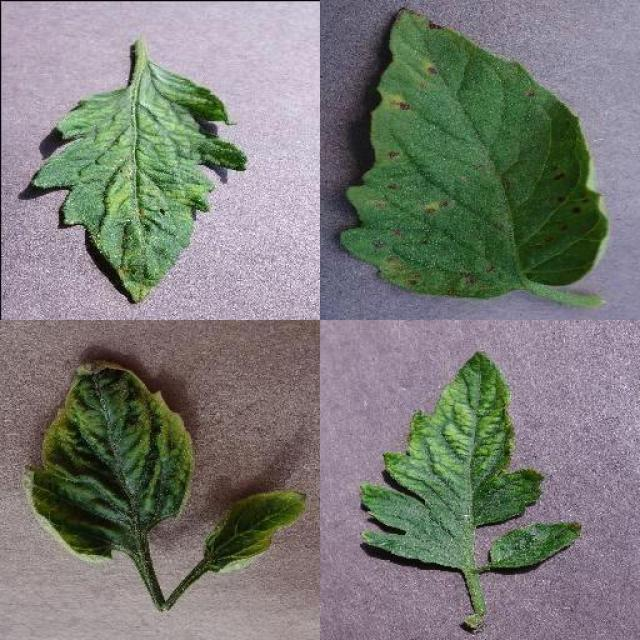Septoria: (340, 8, 611, 298)
